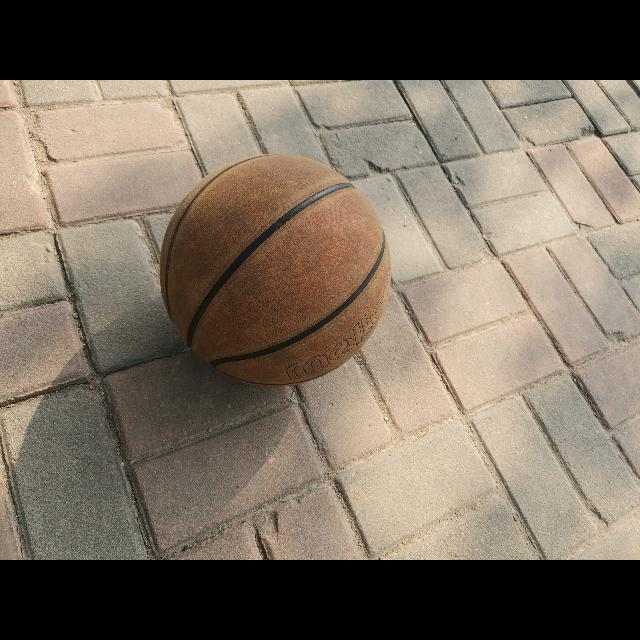basketball: (160, 154, 392, 386)
